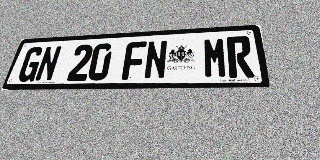0: (86, 43, 113, 81)
2: (67, 44, 94, 81)
F: (121, 41, 147, 80)
G: (16, 47, 45, 82)
M: (203, 37, 228, 78)
N: (34, 46, 62, 82), (143, 40, 168, 80)
R: (226, 36, 255, 78)
